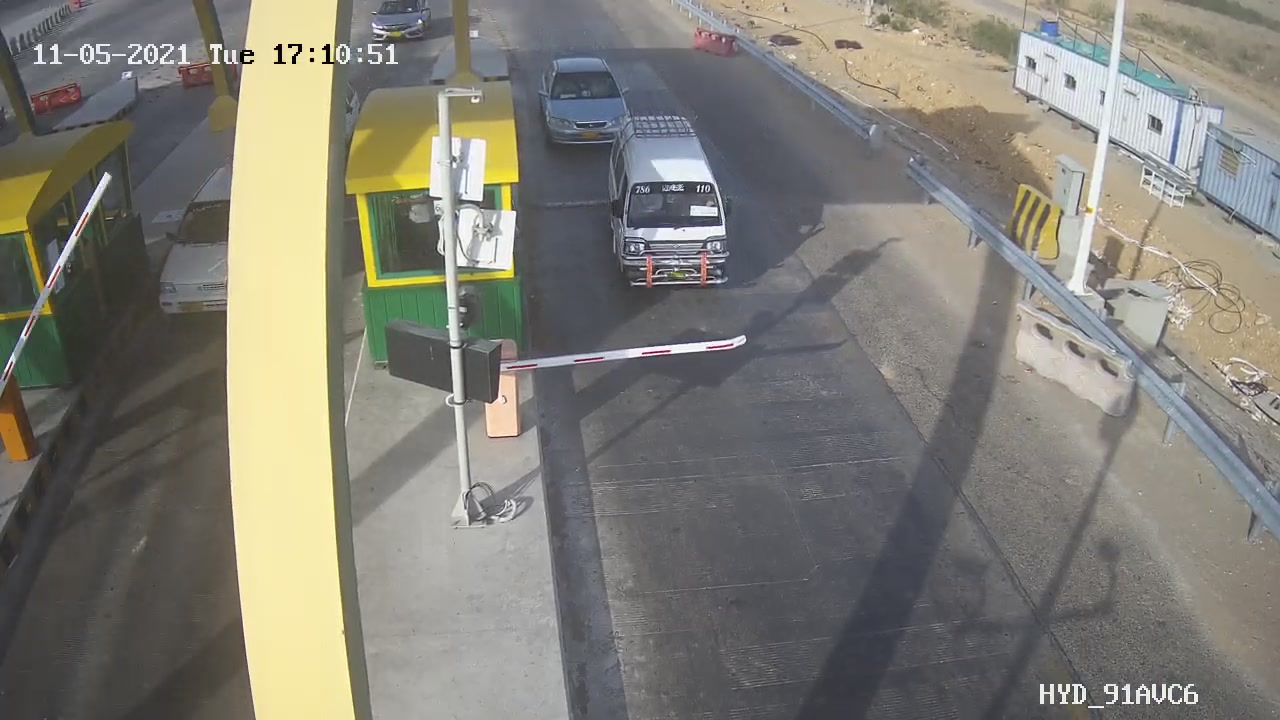F1: (589, 96, 752, 305), (527, 43, 648, 157)
